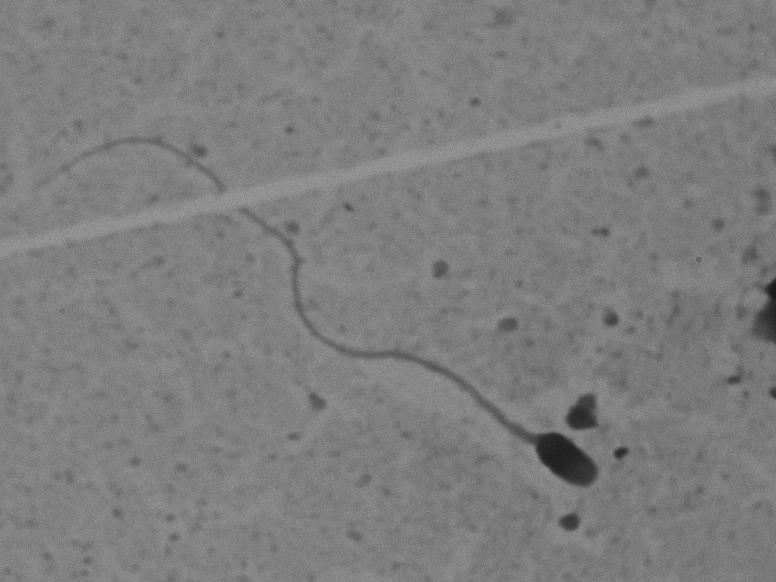Abnormal: (34, 127, 609, 530)
